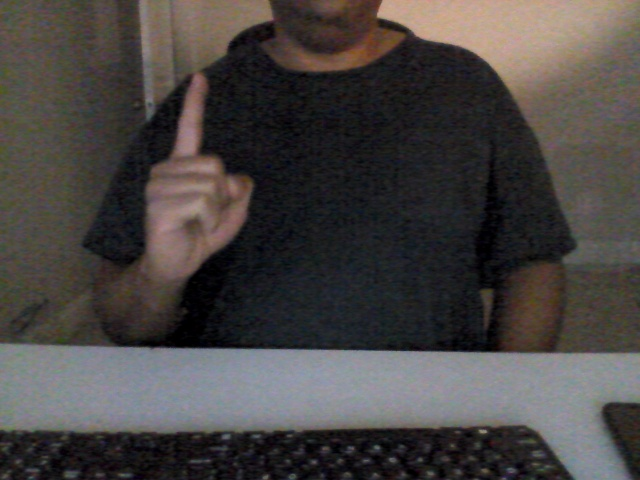up: (139, 66, 259, 288)
